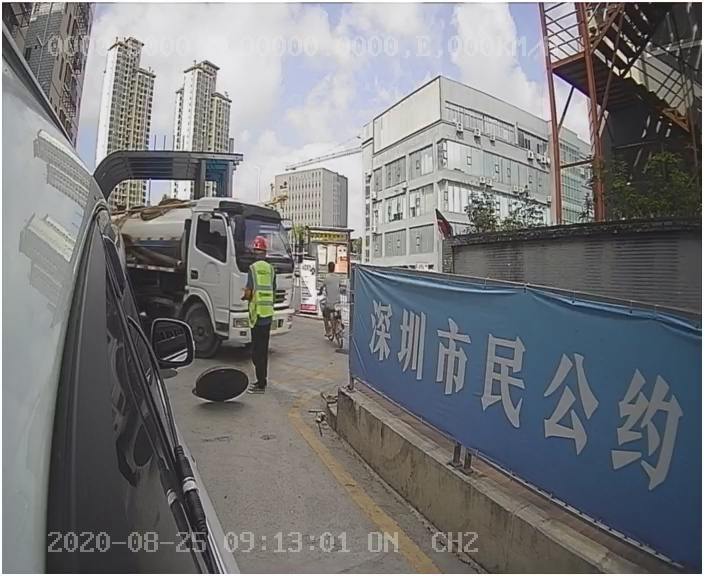person: (235, 238, 281, 395)
